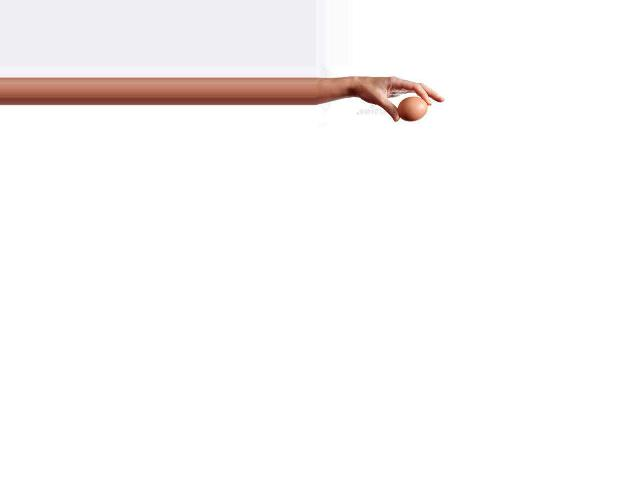egg: (396, 97, 427, 121)
